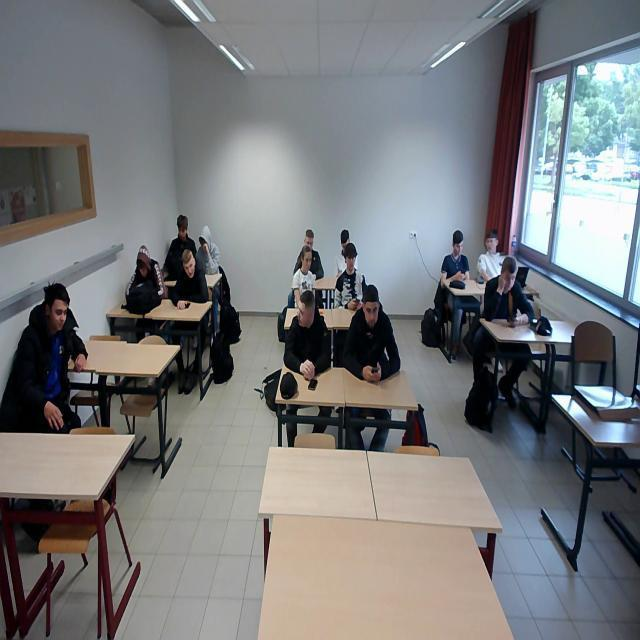Looking away: (46, 281, 72, 334), (298, 291, 315, 330), (298, 246, 314, 274), (484, 228, 499, 254)
Looking forward: (363, 286, 380, 322), (344, 245, 358, 273), (182, 250, 194, 279)
Phone use: (486, 250, 534, 328), (122, 246, 163, 302), (164, 213, 196, 277), (441, 228, 470, 288)
